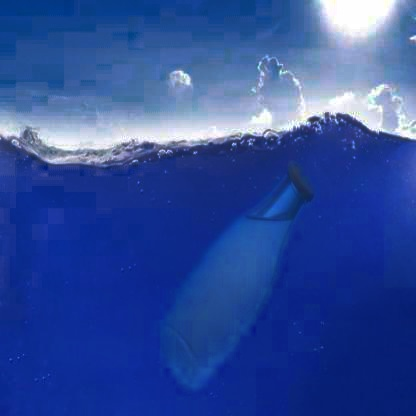gbottle: (159, 164, 315, 387)
